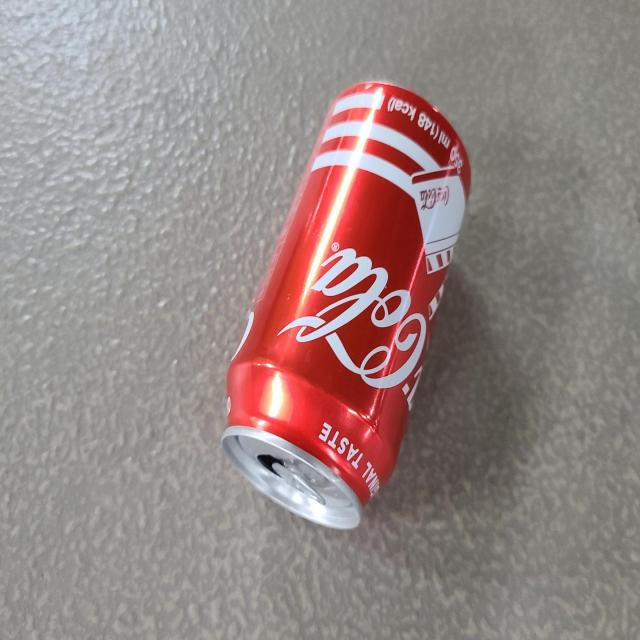can: (222, 81, 471, 529)
